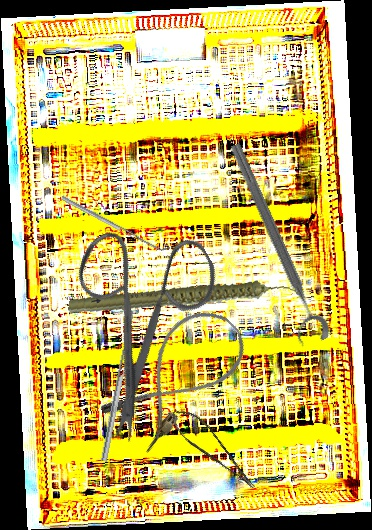Cannula: (95, 295, 258, 458)
Fixation Ring: (213, 139, 333, 351)
Handpiece: (67, 250, 300, 350)
Iris Scissors: (24, 194, 271, 449)
Micro Scissor: (165, 399, 259, 503)
Spatula Surgical: (60, 191, 171, 256), (95, 304, 137, 462)
